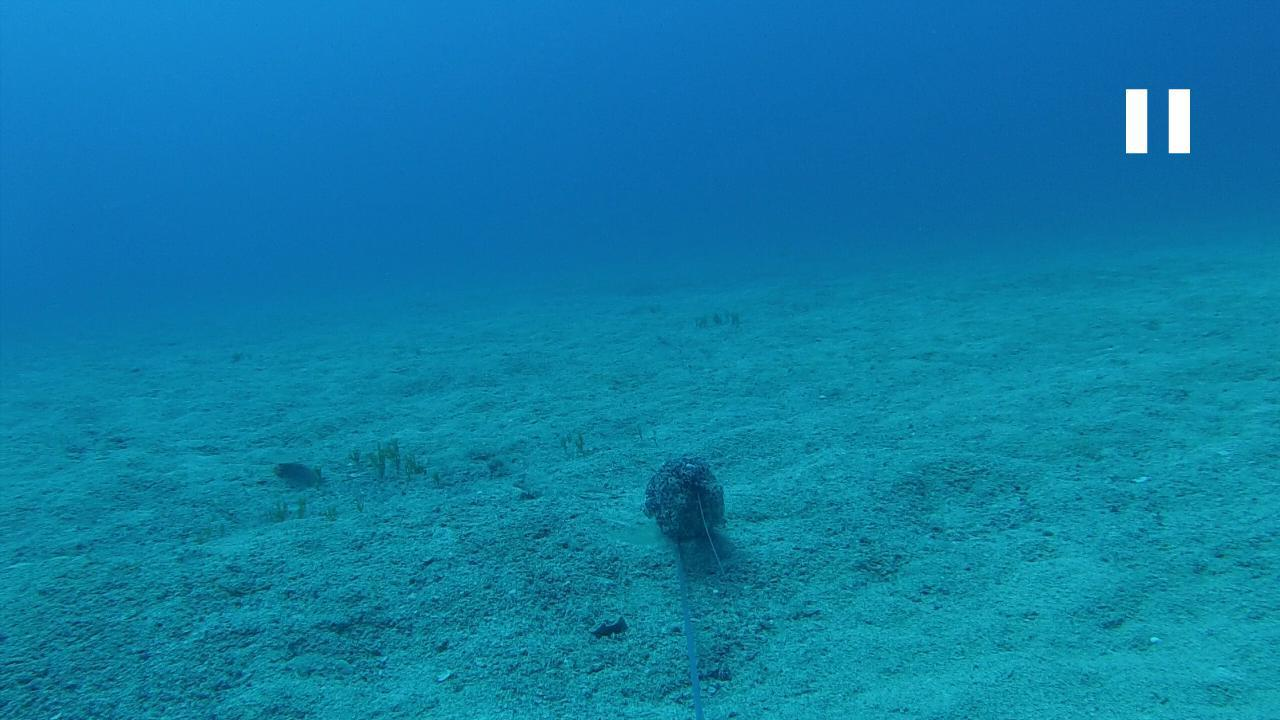bothus: (508, 467, 626, 500)
